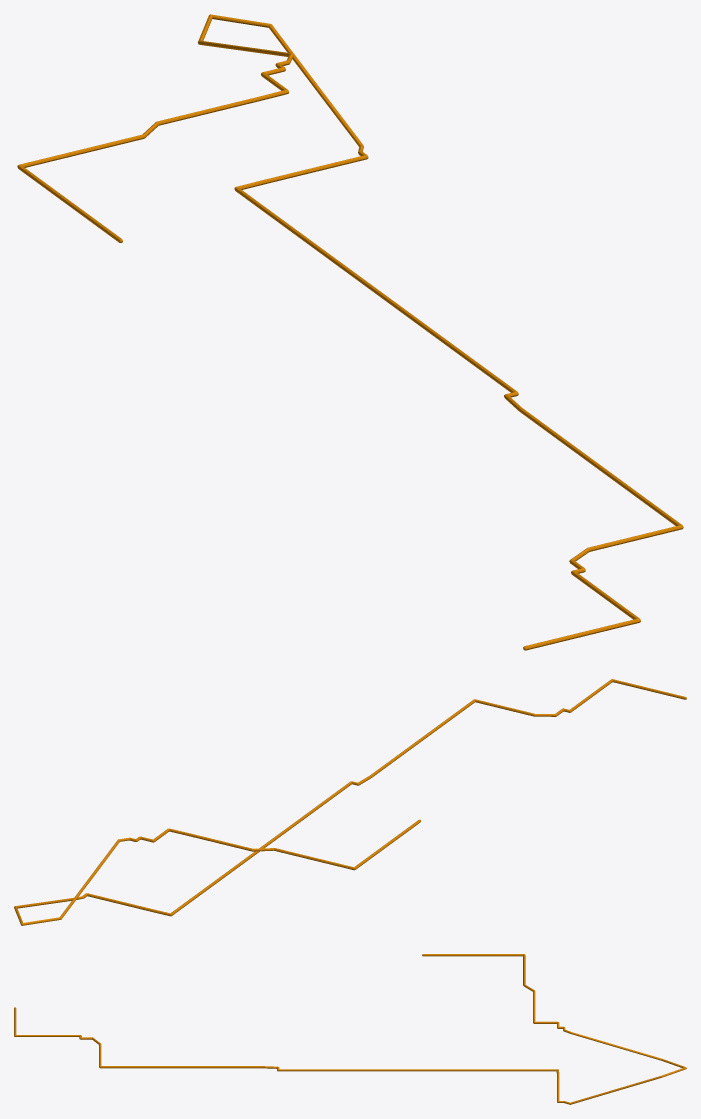
The picture shows the model from 3 angles, top to bottom: view 1: azimuth 30°, elevation 25°; view 2: azimuth 150°, elevation 25°; view 3: azimuth 270°, elevation 25°; orthographic projection. The views are drawn at different scales.
Bounding box in the file's own units: 1918 × 520 × 5653.
